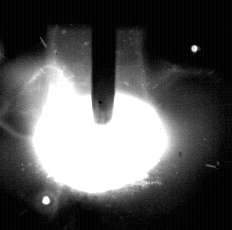arame: (92, 0, 116, 124)
poca: (30, 0, 170, 230)
